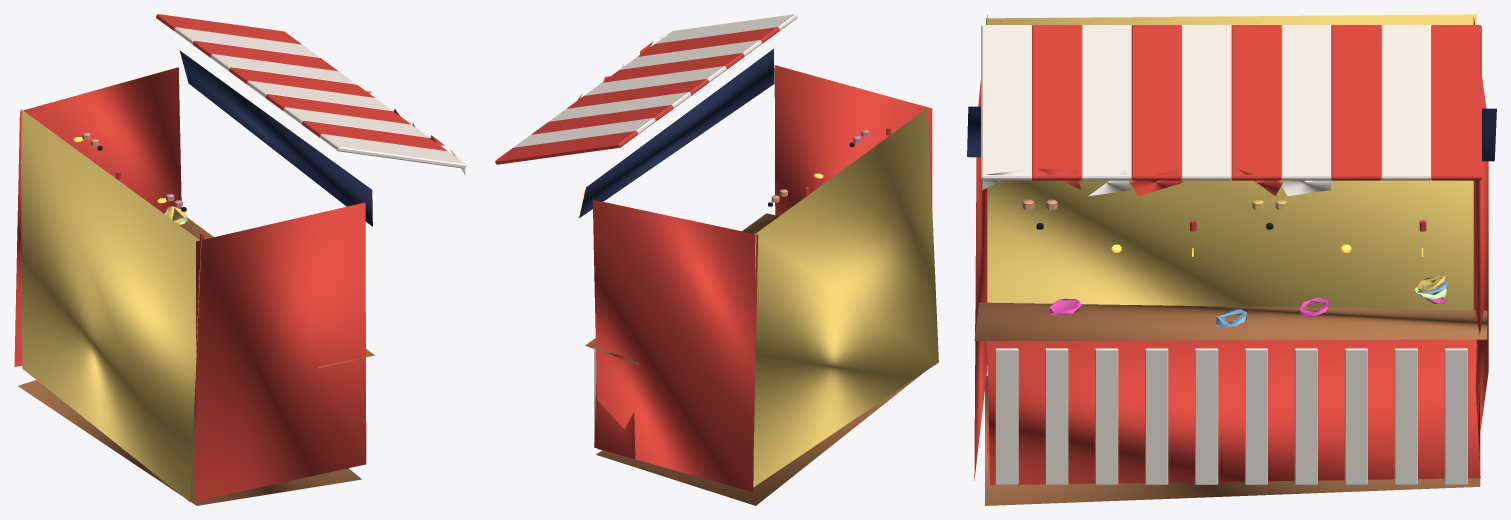
The model's file is hoopla_stall.glb.
The picture shows the model from 3 angles, left to right: view 1: azimuth 30°, elevation 25°; view 2: azimuth 150°, elevation 25°; view 3: azimuth 270°, elevation 25°; orthographic projection. The views are drawn at different scales.
Visible parts, largest first — view 1: hoopla_stall; view 2: hoopla_stall; view 3: hoopla_stall.
Part boxes in pixels (x1,y1,x2,y2): hoopla_stall: (14, 14, 466, 505); hoopla_stall: (495, 14, 938, 505); hoopla_stall: (967, 14, 1496, 505).
Size of the model in its own units: 2.62 by 3.08 by 3.18.
1 material, 1 textured.
